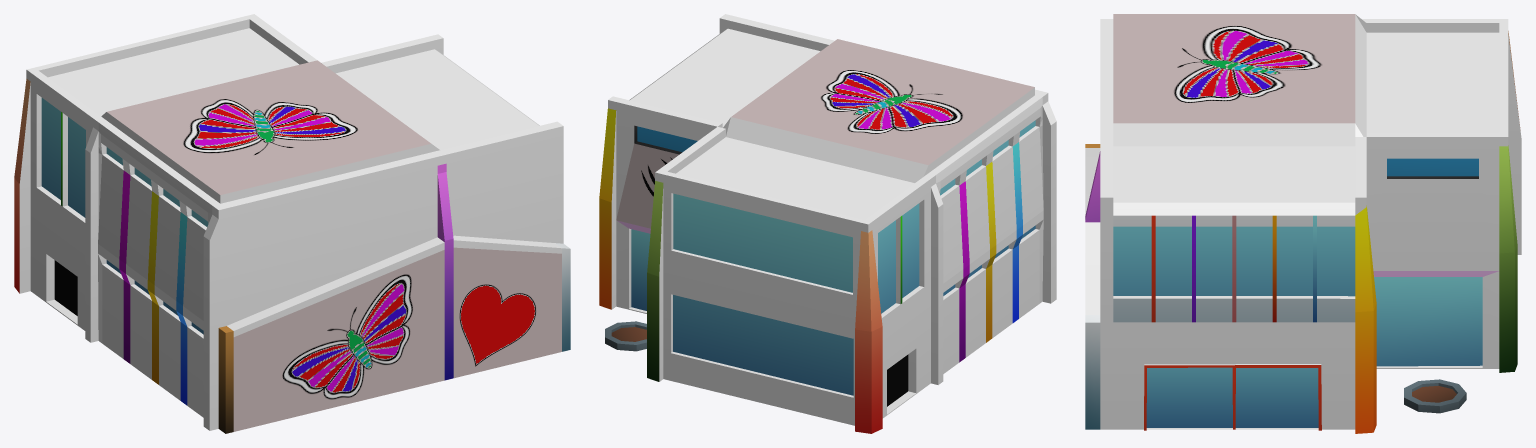
Rendered from SchoolBuilding.fbx.
3 views of the same model, side by side, from view 1: azimuth 30°, elevation 25°; view 2: azimuth 150°, elevation 25°; view 3: azimuth 270°, elevation 25° (orthographic). The views are drawn at different scales.
Visible parts, largest first — view 1: Cube.001; view 2: Cube.001; view 3: Cube.001.
Part boxes in pixels (<box>): Cube.001: <box>14,14,570,433</box>; Cube.001: <box>599,14,1056,433</box>; Cube.001: <box>1085,14,1521,433</box>.
Size of the model in its own units: 2487 by 1482 by 2430.
Materials: 4 (3 with a texture image).
